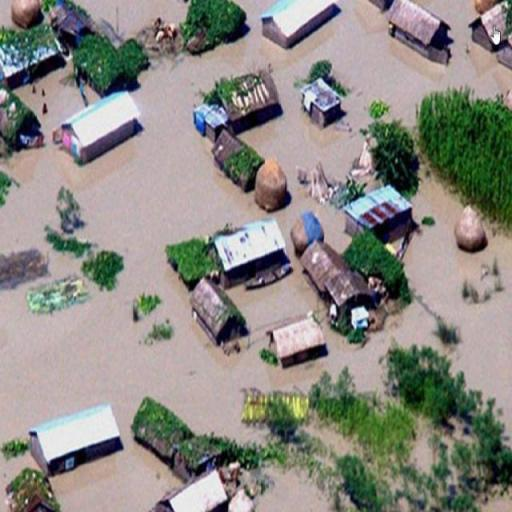flood: (0, 0, 512, 512), (74, 0, 186, 38), (257, 469, 334, 512), (0, 456, 34, 512), (484, 500, 512, 512), (0, 0, 12, 26)
house: (22, 400, 134, 482), (58, 88, 142, 169), (213, 218, 285, 282), (260, 3, 340, 54), (259, 313, 326, 371), (348, 183, 416, 239), (133, 397, 191, 462), (386, 0, 452, 56), (217, 74, 278, 134), (190, 276, 240, 344), (210, 127, 263, 191), (154, 469, 226, 512), (302, 239, 349, 288), (300, 76, 345, 126), (469, 0, 512, 46), (330, 274, 374, 310), (292, 211, 326, 249)
